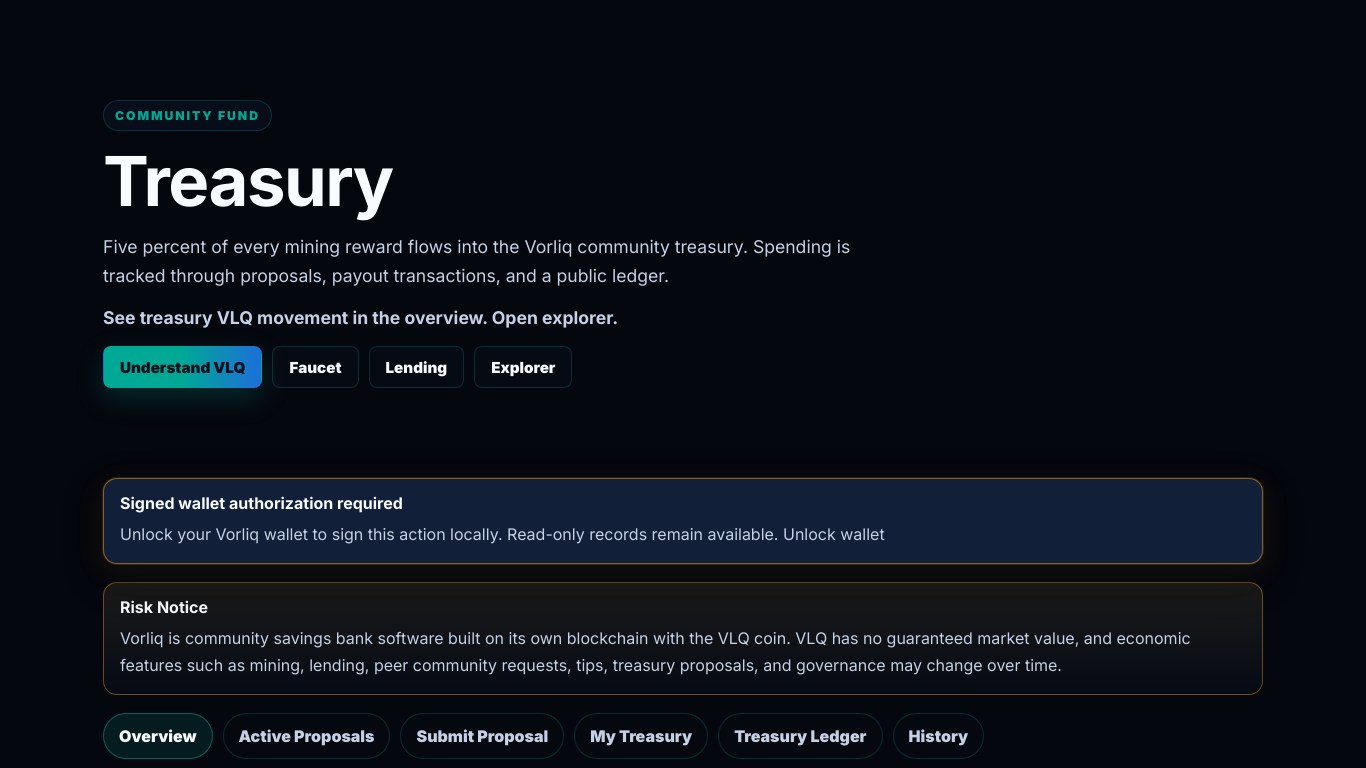
Test case: Treasury tabs render overview and active proposal card
Expected: the message named "authority write status" shows "Signed wallet authorization", [120, 494, 403, 514]
Expected: the button "Overview" is shown, [103, 713, 213, 759]
Click the button "Active Proposals": (307, 736) [223, 713, 390, 759]
(page scrolled)
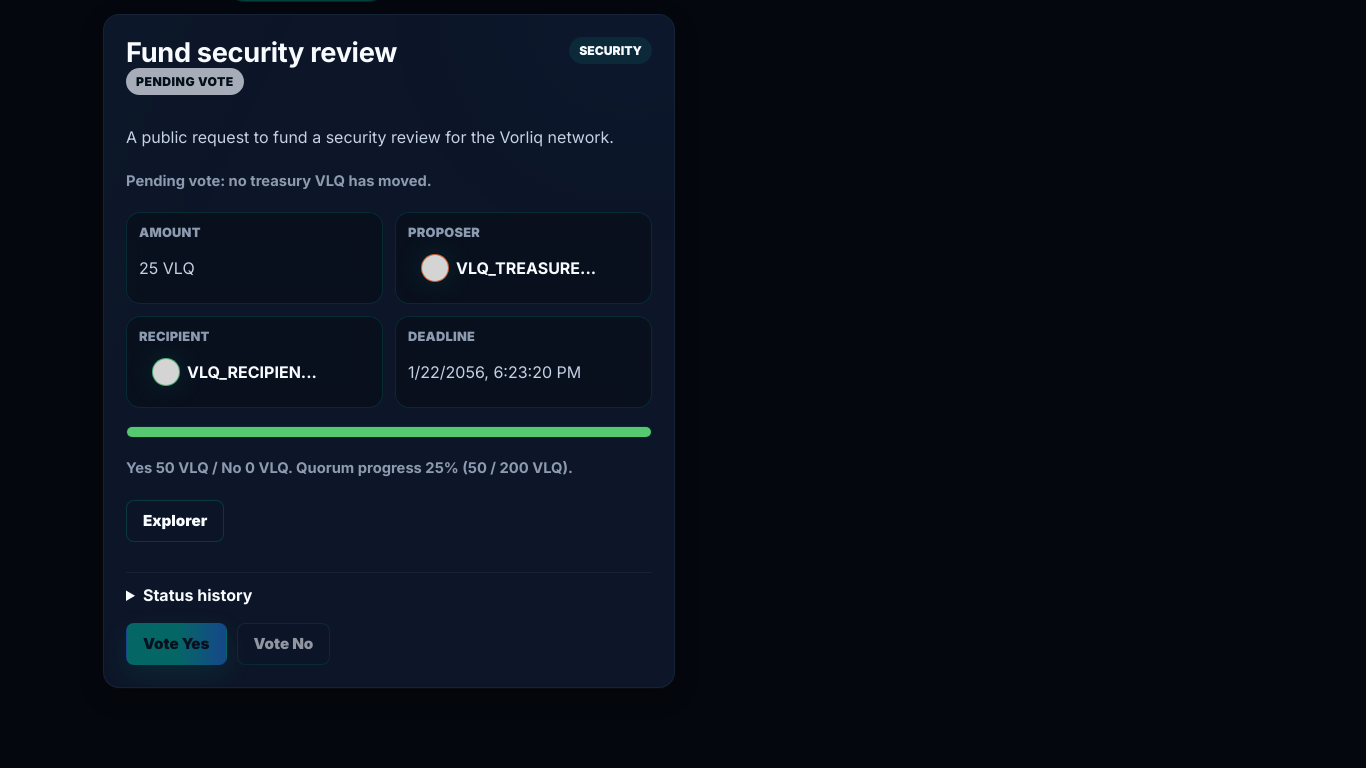
Now the heading "Fund security review" is shown, box [126, 37, 397, 70]
Now the text "Pending vote" is shown, box [126, 68, 244, 95]
Now the button "Vote Yes" is disabled, box [126, 623, 226, 665]
